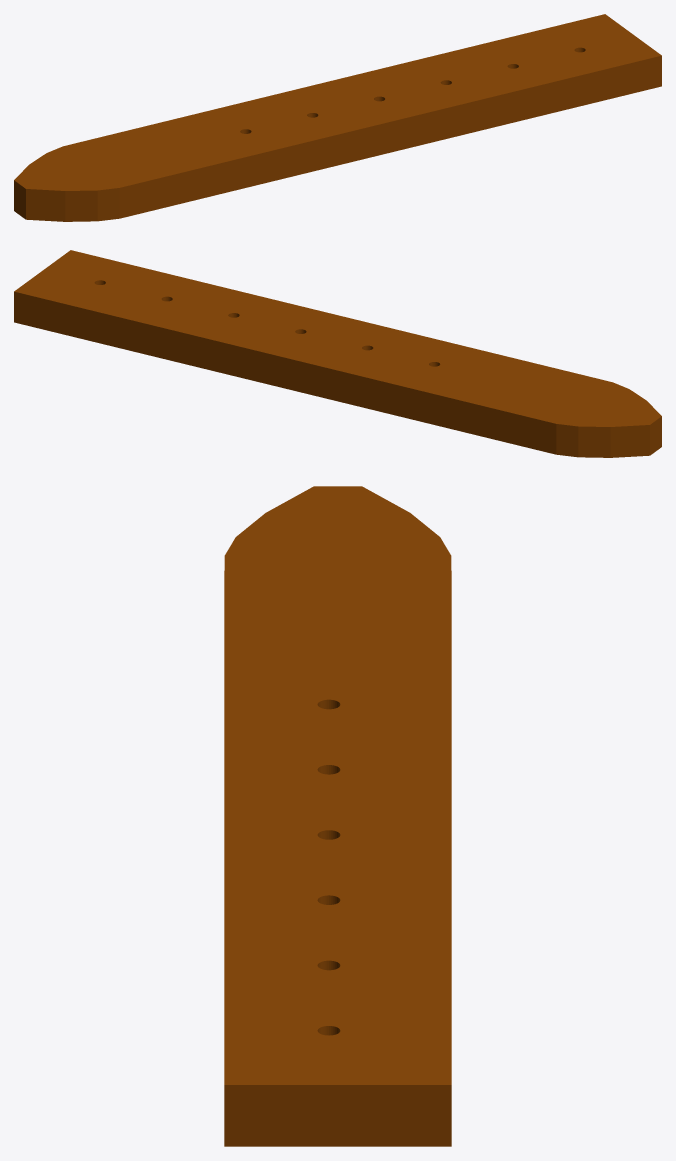
File: left strap.fbx
The picture shows the model from 3 angles, top to bottom: view 1: azimuth 30°, elevation 25°; view 2: azimuth 150°, elevation 25°; view 3: azimuth 270°, elevation 25°; orthographic projection. The views are drawn at different scales.
Parts seen in each view (by area): view 1: Cube.001; view 2: Cube.001; view 3: Cube.001.
Part boxes in pixels (box(x1,y1,x2,y2)): Cube.001: box(14, 14, 661, 221); Cube.001: box(14, 250, 661, 457); Cube.001: box(224, 486, 451, 1146).
Bounding box in the file's own units: 1249 × 60 × 200.
